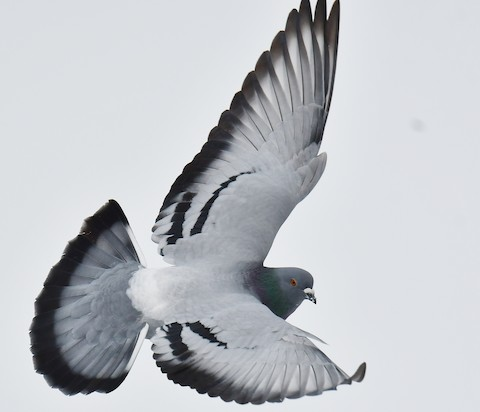pigeon: (24, 1, 398, 408)
